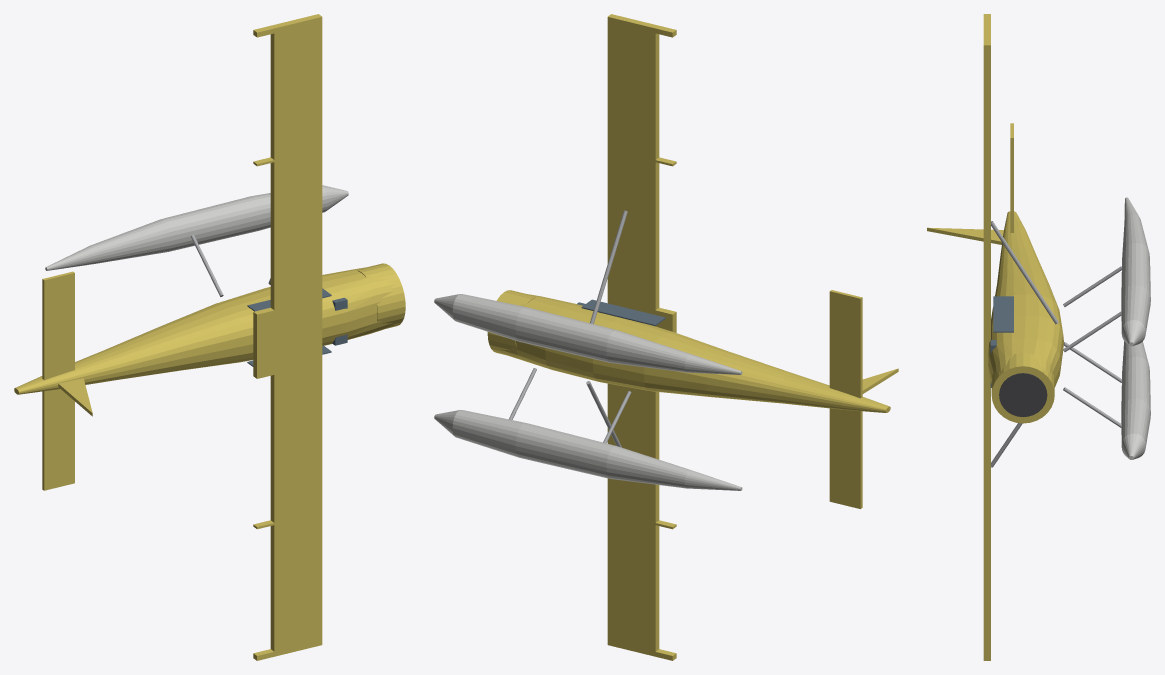
File: beaver_body_yellow.glb
3 renders of one model, left to right at view 1: azimuth 30°, elevation 25°; view 2: azimuth 150°, elevation 25°; view 3: azimuth 270°, elevation 25°, orthographic. The views are drawn at different scales.
Visible parts, largest first — view 1: part15, part16, part0, part21, part19, part1, part20; view 2: part15, part16, part0, part24, part21, part19, part13, part1; view 3: part0, part21, part24, part15, part16, part1, part2, part13, part20, part17, part19.
Part boxes in pixels (x1=…): part15: x1=253, y1=14, x2=322, y2=346; part16: x1=253, y1=331, x2=322, y2=660; part0: x1=14, y1=267, x2=395, y2=394; part21: x1=45, y1=185, x2=348, y2=270; part19: x1=42, y1=271, x2=74, y2=490; part1: x1=357, y1=263, x2=405, y2=328; part20: x1=58, y1=378, x2=92, y2=416; part15: x1=607, y1=14, x2=676, y2=332; part16: x1=607, y1=383, x2=676, y2=660; part0: x1=498, y1=294, x2=890, y2=412; part24: x1=434, y1=410, x2=742, y2=490; part21: x1=434, y1=294, x2=742, y2=374; part19: x1=829, y1=290, x2=862, y2=508; part13: x1=581, y1=299, x2=665, y2=326; part1: x1=487, y1=290, x2=535, y2=354; part0: x1=988, y1=211, x2=1063, y2=387; part21: x1=1121, y1=197, x2=1150, y2=346; part24: x1=1121, y1=341, x2=1150, y2=459; part15: x1=983, y1=14, x2=990, y2=352; part16: x1=983, y1=353, x2=990, y2=660; part1: x1=991, y1=353, x2=1054, y2=423; part2: x1=999, y1=373, x2=1047, y2=416; part13: x1=993, y1=296, x2=1013, y2=332; part20: x1=927, y1=227, x2=1003, y2=244; part17: x1=991, y1=221, x2=1058, y2=324; part19: x1=1010, y1=123, x2=1013, y2=233.
Size of the model in its own units: 9.55 by 14.63 by 4.82.
